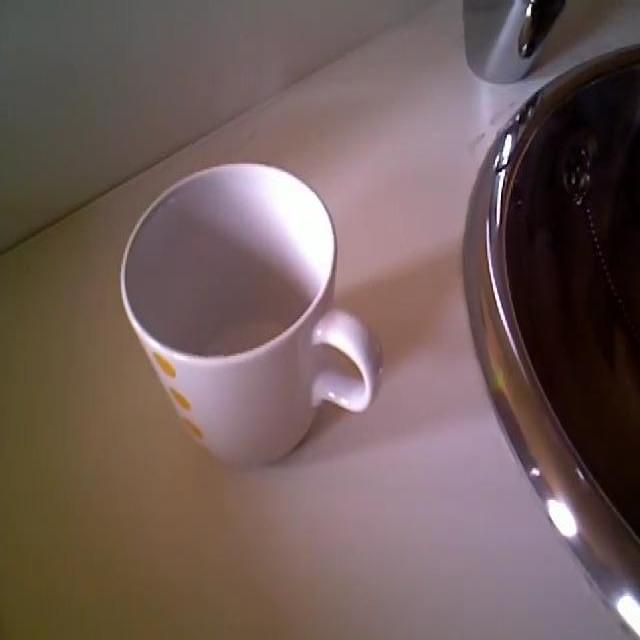cup: (123, 151, 388, 497)
